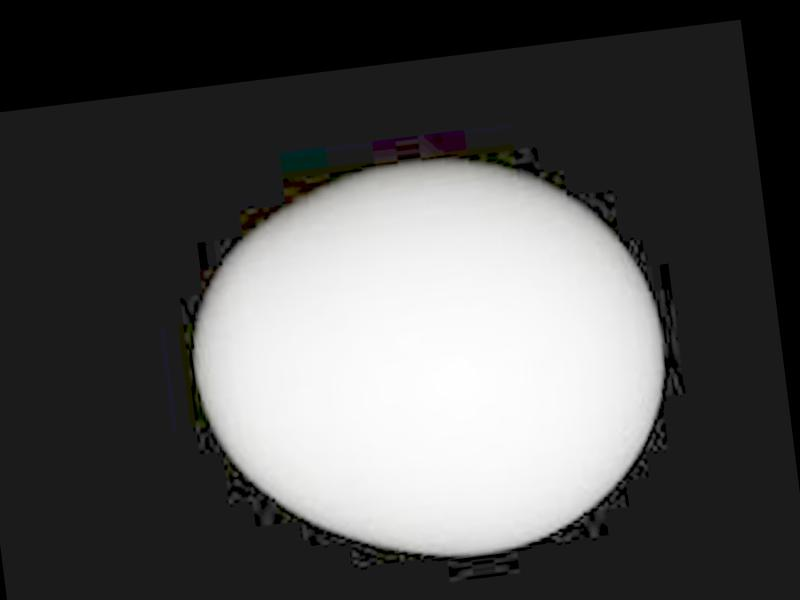Eggs: (180, 144, 687, 582)
